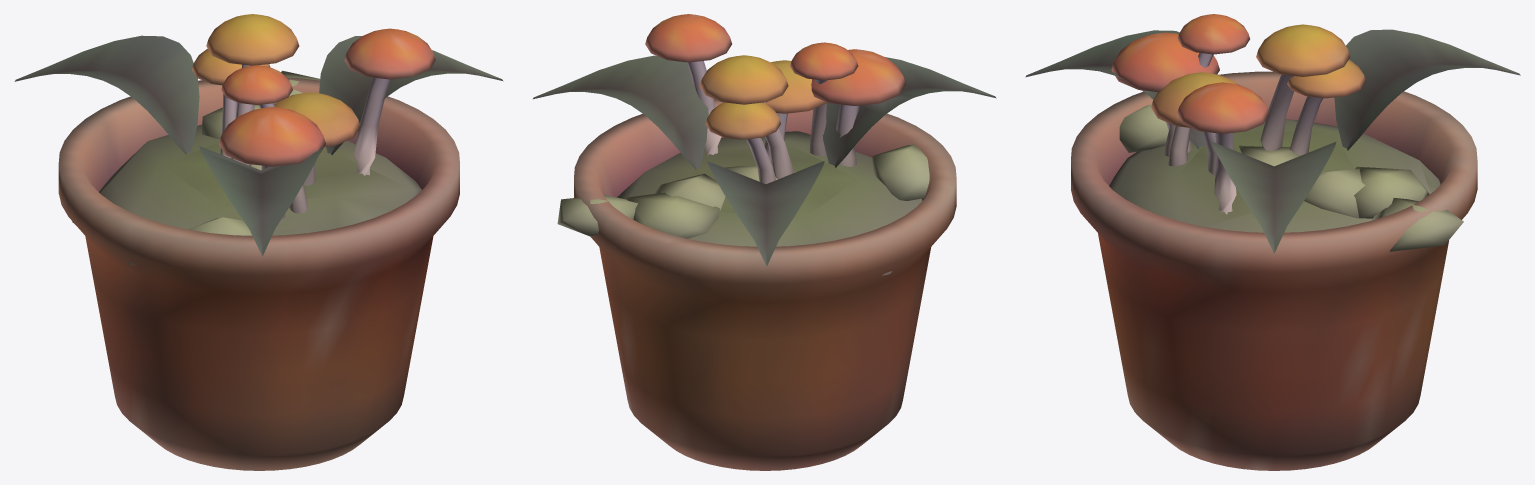
Rendered from mantar_saksi.glb.
The picture shows the model from 3 angles, left to right: view 1: azimuth 30°, elevation 25°; view 2: azimuth 150°, elevation 25°; view 3: azimuth 270°, elevation 25°; orthographic projection. The views are drawn at different scales.
Parts seen in each view (by area): view 1: mantar_saksi_LOD0; view 2: mantar_saksi_LOD0; view 3: mantar_saksi_LOD0.
Part boxes in pixels (x1,y1,x2,y2): mantar_saksi_LOD0: [14, 14, 503, 470]; mantar_saksi_LOD0: [533, 14, 996, 470]; mantar_saksi_LOD0: [1025, 14, 1520, 470].
Size of what is drawn, in the model's own units: 0.6005 by 0.5394 by 0.609.
